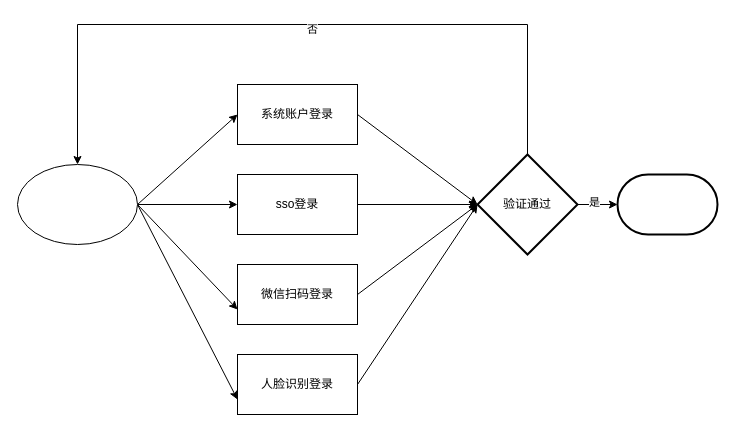
Image size: 736x432. Some labels were removed from this diagram. Here are the shapes that lost their labels. From the top down, the box of each, then its label:
(16, 164, 138, 244): 登录
(616, 173, 718, 235): 登录成功
